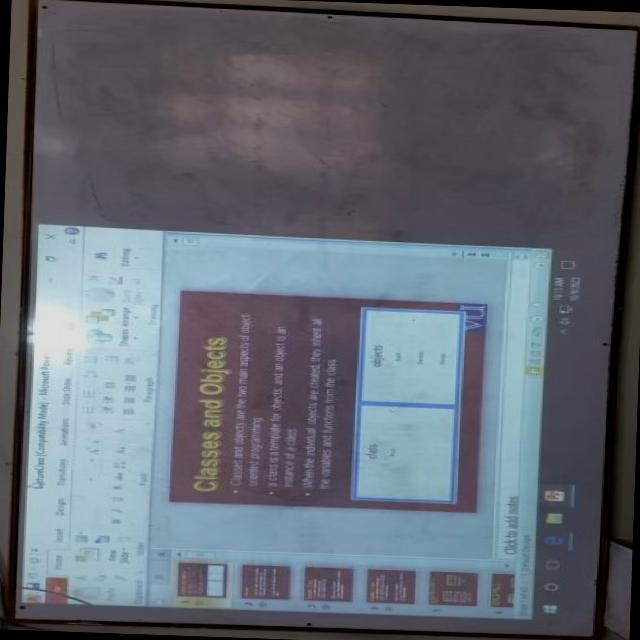Slide: (22, 218, 587, 617)
White-board: (10, 0, 637, 637)
